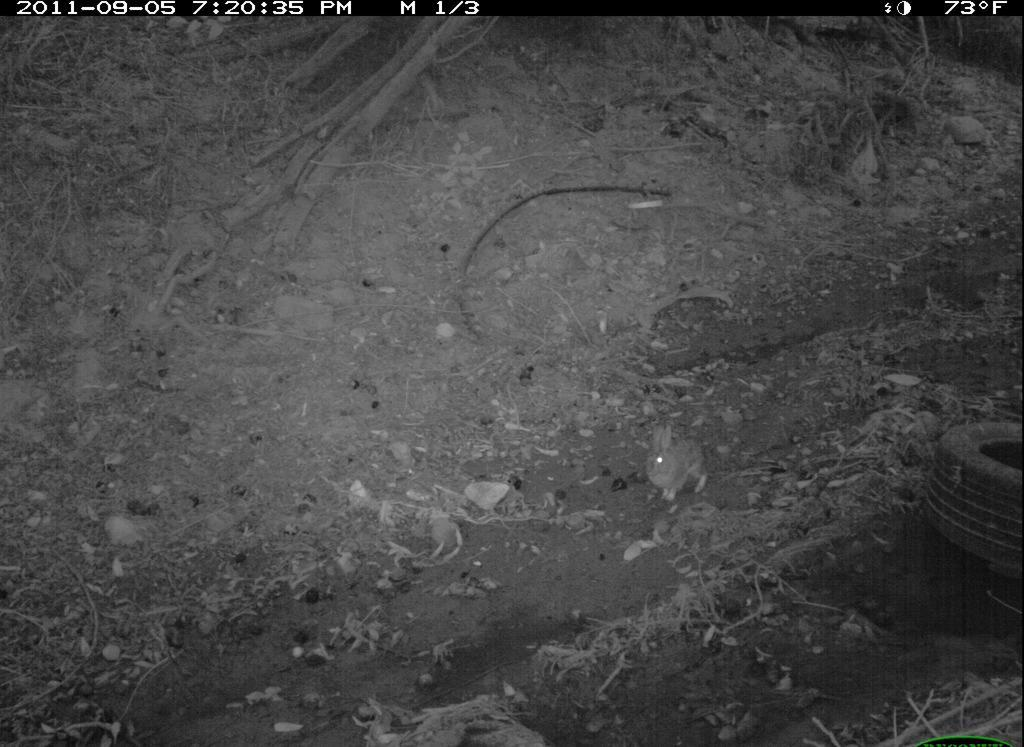rabbit: (632, 410, 711, 514)
